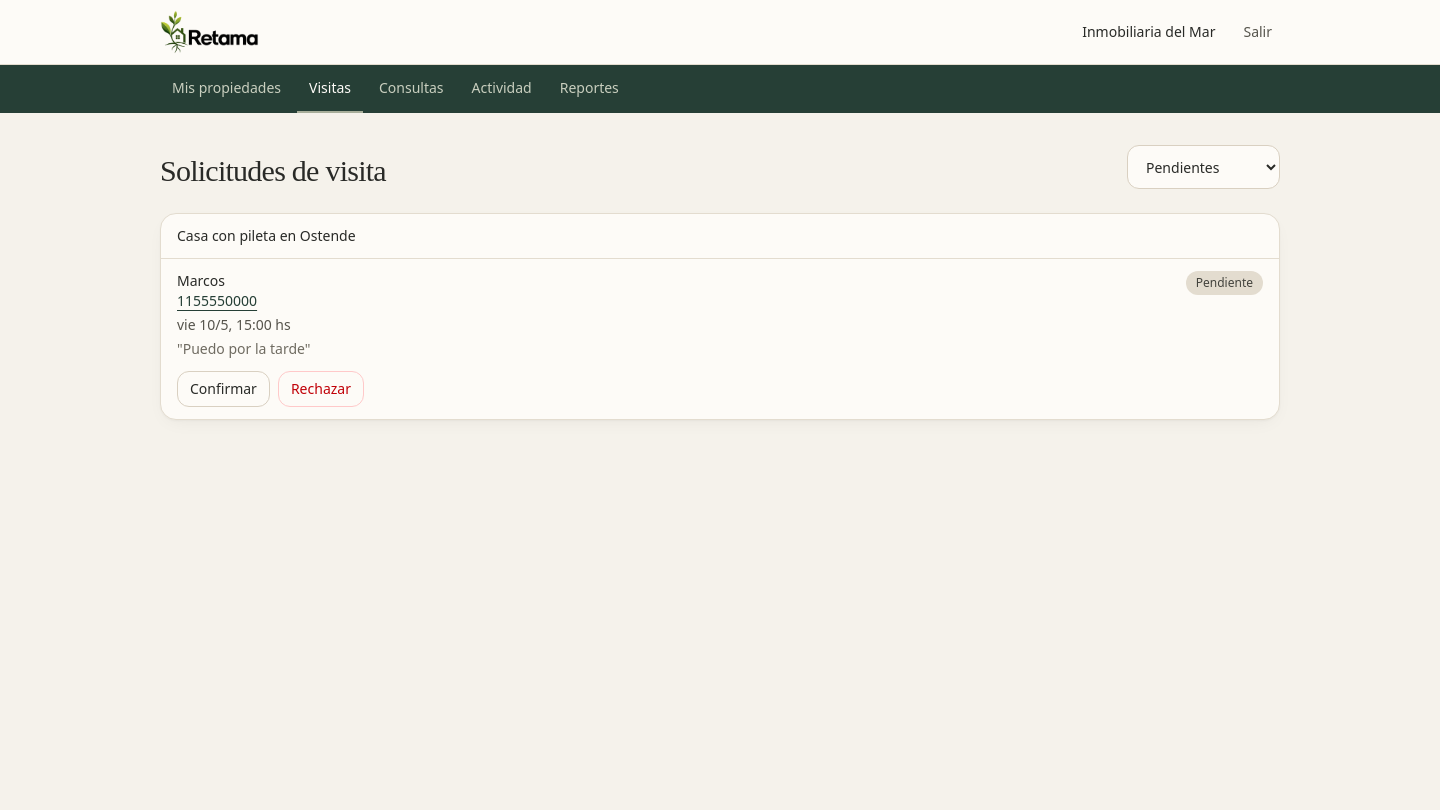
Test case: solicitudes de visita › rechazar pide confirmacion antes de ejecutar
The image size is (1440, 810).
Click the button "Rechazar": x=321, y=389 [278,371,364,407]
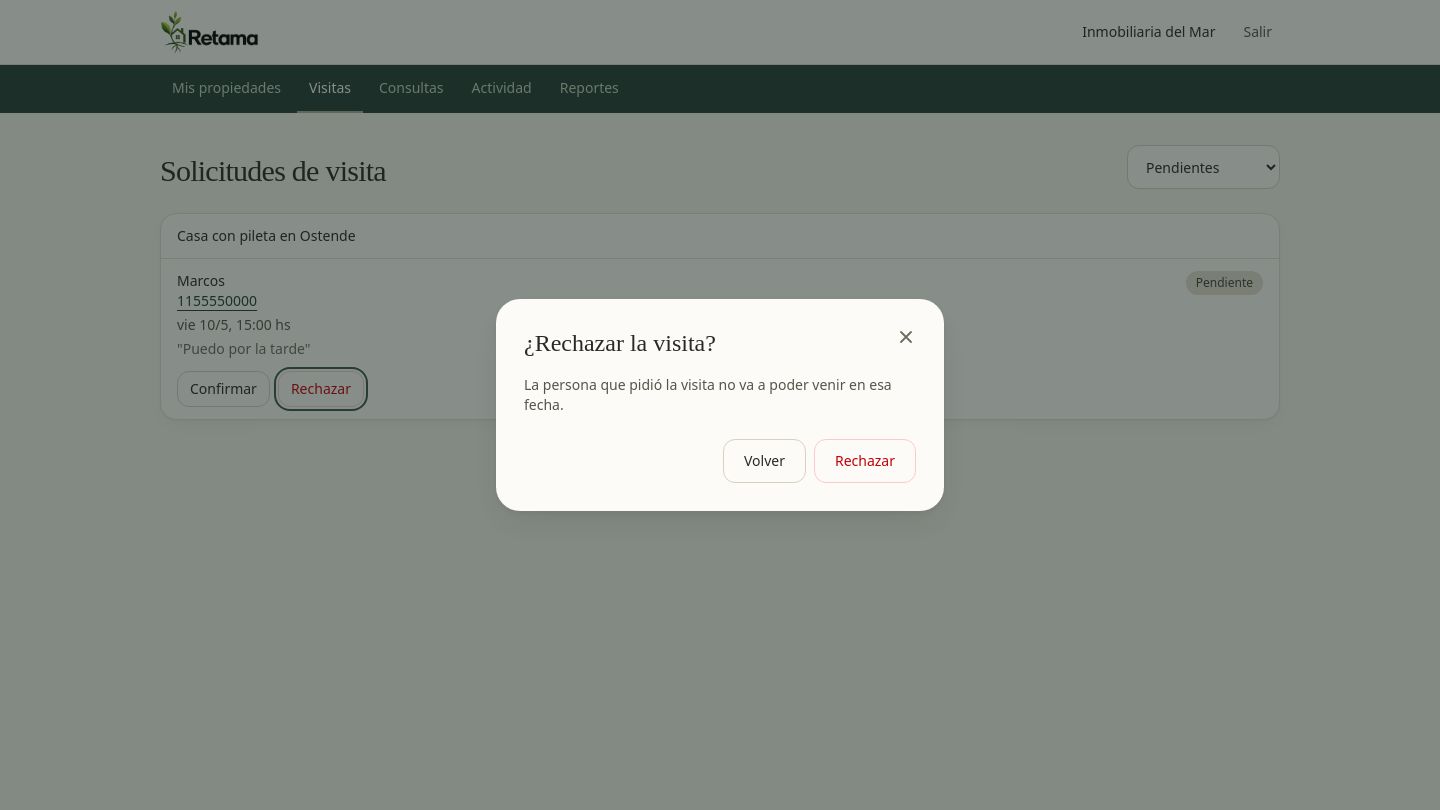
Click the button "Rechazar": x=865, y=461 [814,439,916,483]
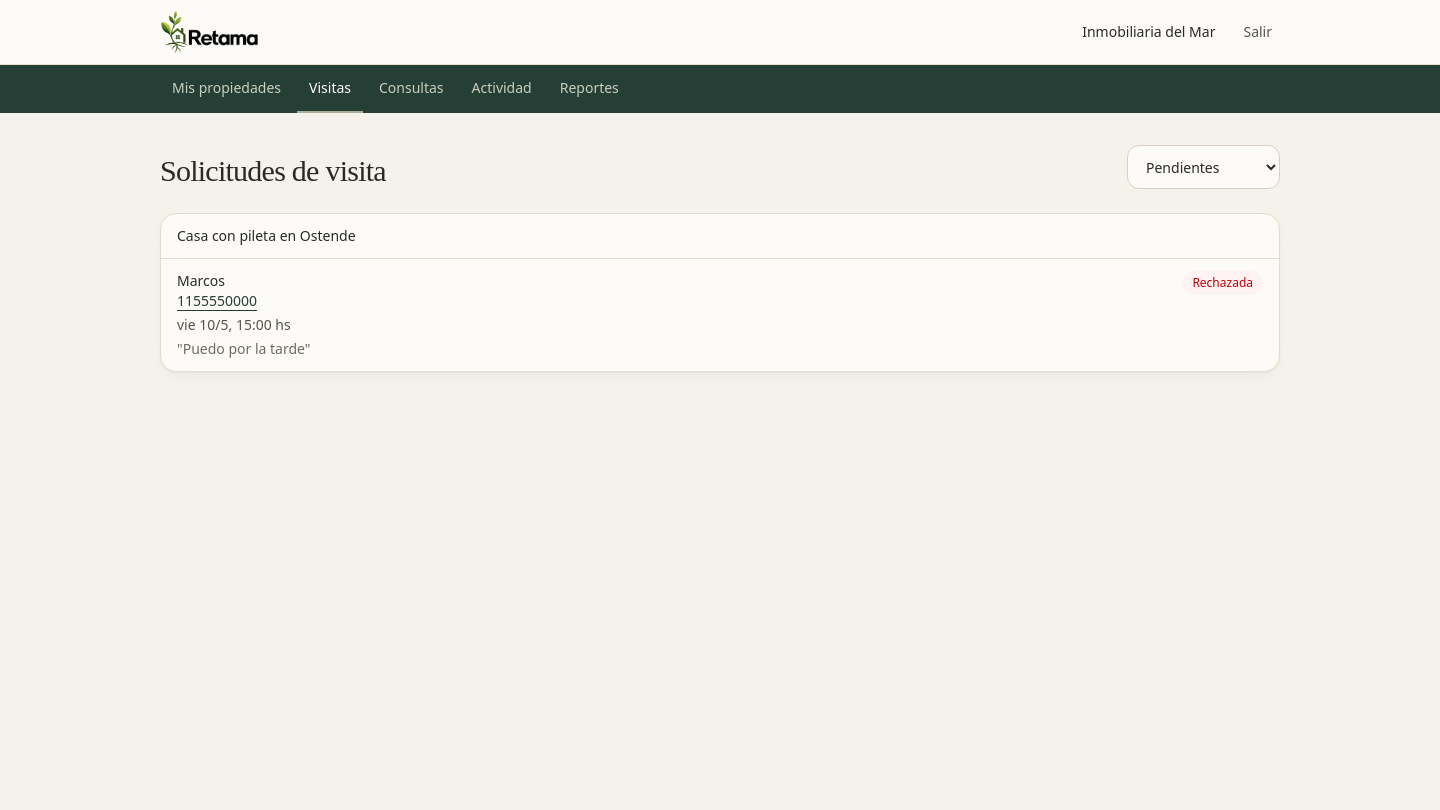
Expected: the text "Rechazada" is shown, [1182,271,1263,295]
